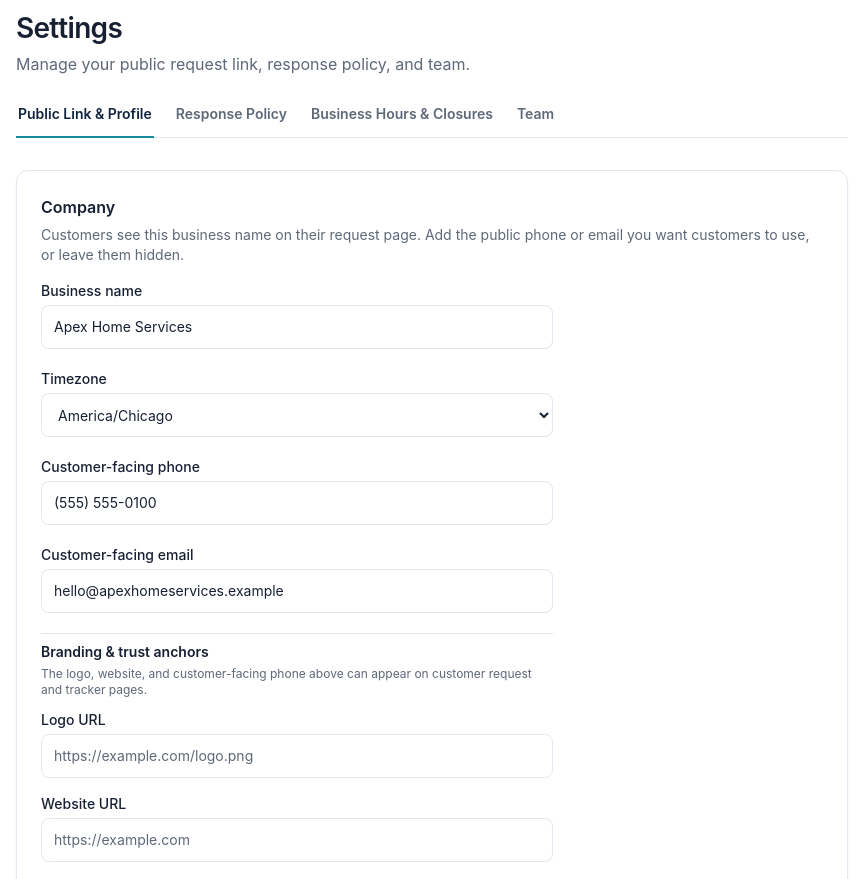
Scenario: CompanySection customer-facing phone formatting › drops a leading +1 typed into the field before saving
Replace the text in the field labelled "Customer-facing phone" with "+15555559999". click: (297, 503)
box: x1=41 y1=481 x2=553 y2=525
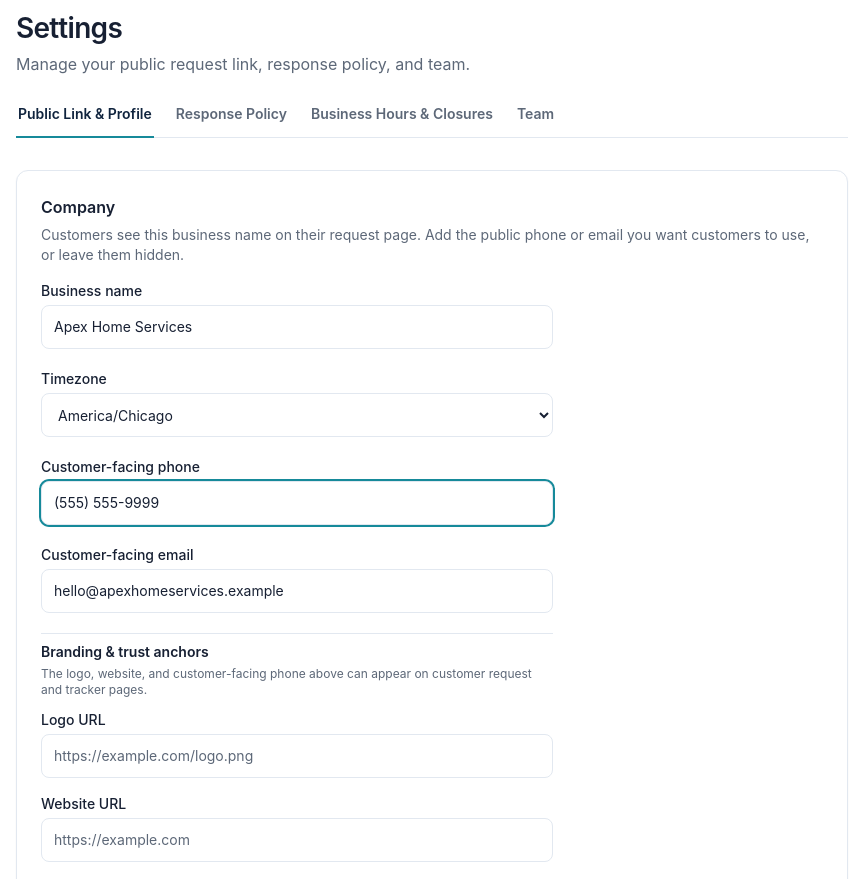
expect the field labelled "Customer-facing phone" holds "(555) 555-9999": met, box x1=41 y1=481 x2=553 y2=525
